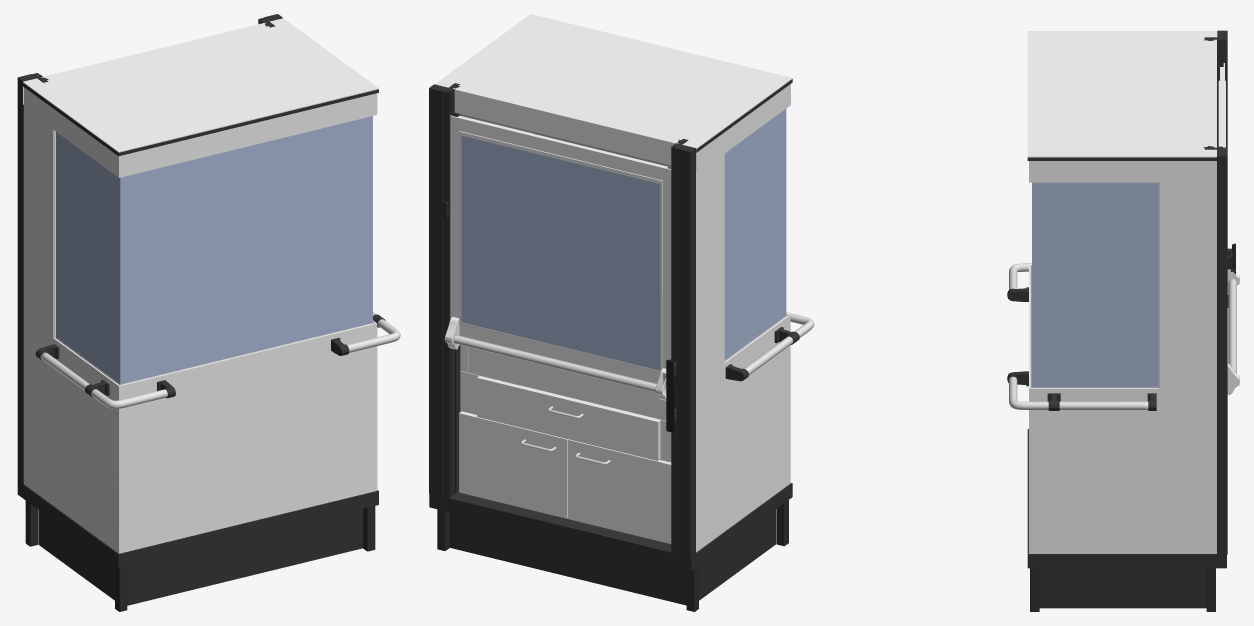
The model's file is Lab Machine 3D.fbx.
The picture shows the model from 3 angles, left to right: view 1: azimuth 30°, elevation 25°; view 2: azimuth 150°, elevation 25°; view 3: azimuth 270°, elevation 25°; orthographic projection.
Parts seen in each view (by area): view 1: v, Group 3.001_proxy.002, v.001, Cube.005, Cube.008, Cylinder.001, Cube.001, Group 3.001_proxy.001, Cylinder.003, Cube, Cube.002, Cube.003; view 2: v.001, v, Cube.017, Group 3.001_proxy.002, Group 3.001_proxy.005, Cube.006, Group 3.001_proxy.010, Group 3.001_proxy.003, Group 3.001_proxy.009, Group 3.001_proxy.006, Cube.008, Cylinder.004 (+2 smaller); view 3: v, Group 3.001_proxy.002, v.001, Cube.007, Cylinder.003, Group 3.001_proxy.001, Cylinder.004, Cube.001, Group 3.001_proxy.003, Cube.002, Cube.004, Cube.006.
Boxes of the visible parts, x1,y1,x2,y2 form: v: (18,14,378,568); Group 3.001_proxy.002: (56,116,372,384); v.001: (17,18,378,567); Cube.005: (127,509,362,605); Cube.008: (42,513,114,600); Cylinder.001: (41,352,167,409); Cube.001: (118,89,378,155); Group 3.001_proxy.001: (35,314,385,398); Cylinder.003: (347,312,400,352); Cube: (115,566,127,611); Cube.002: (363,506,375,551); Cube.003: (25,501,37,546); v.001: (429,14,792,570); v: (429,78,792,557); Cube.017: (461,135,660,370); Group 3.001_proxy.002: (484,109,786,359); Group 3.001_proxy.005: (459,411,671,543); Cube.006: (449,512,686,605); Group 3.001_proxy.010: (459,413,566,518); Group 3.001_proxy.003: (450,115,671,383); Group 3.001_proxy.009: (477,378,657,460); Group 3.001_proxy.006: (450,116,671,183); Cube.008: (699,512,772,600); Cylinder.004: (453,335,656,392); v: (1027,30,1227,568); Group 3.001_proxy.002: (1032,182,1158,387); v.001: (1027,31,1227,378); Cube.007: (1047,568,1198,608); Cylinder.003: (1009,376,1148,409); Group 3.001_proxy.001: (1007,287,1156,410); Cylinder.004: (1228,279,1236,372); Cube.001: (1027,157,1216,160); Group 3.001_proxy.003: (1218,63,1225,147); Cube.002: (1030,568,1039,611); Cube.004: (1206,568,1215,611); Cube.006: (1198,568,1206,608).
Bounding box in the file's own units: 94.48 × 102 × 53.33.
